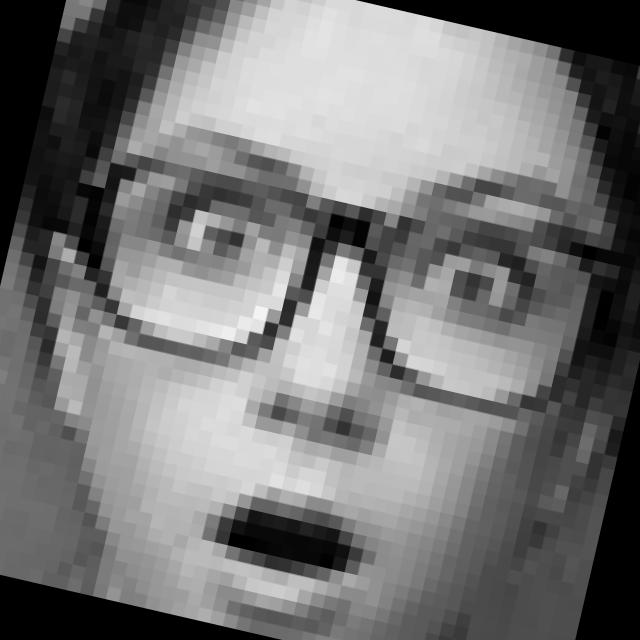surprise: (16, 75, 590, 640)
